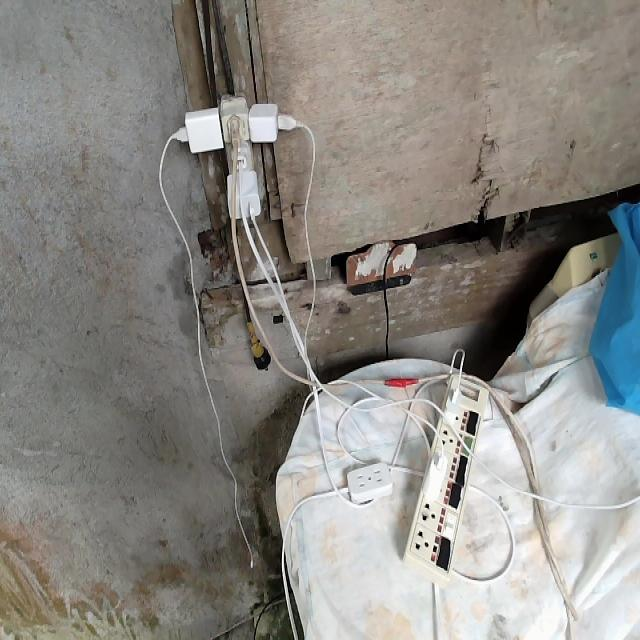-: (157, 93, 315, 227)
